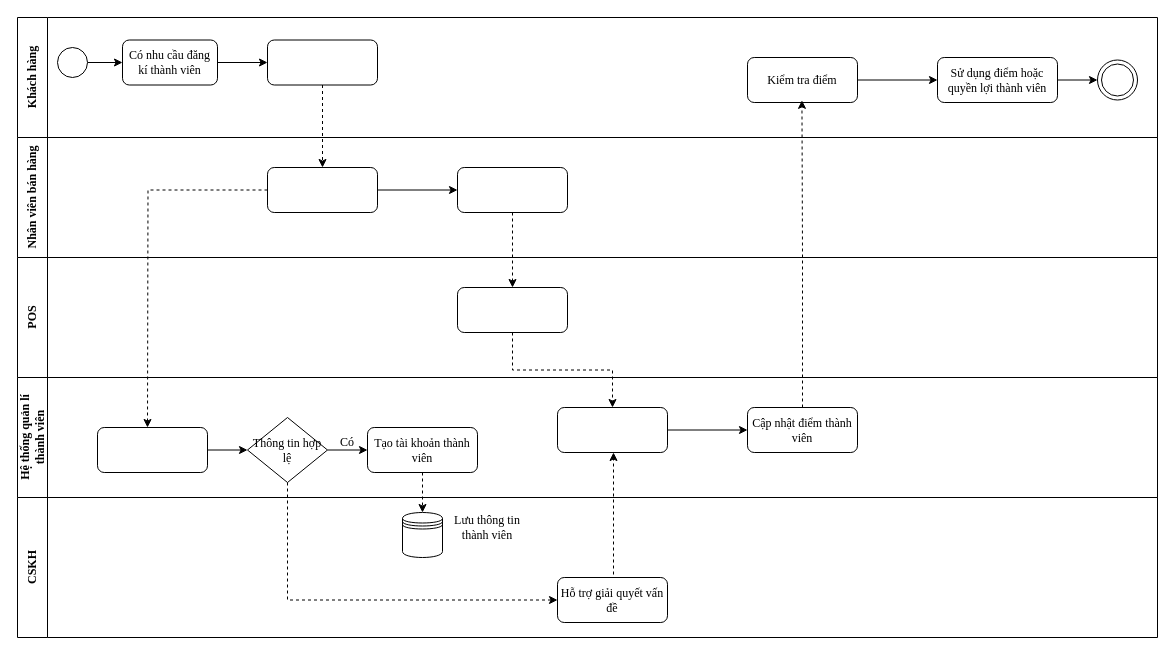
Some shapes in this 1175 by 655 pixel diagram are drawn without their labels. The shapes that lost their labels are listed below. From the top down, each one's centre as x and y in pixels, then its label:
At [322,62]: "Cung cấp thông tin cần thiết".
At [322,189]: "Tiếp nhận thông tin đăng kí".
At [512,189]: "Xác nhận thông tin, hướng dẫn".
At [512,309]: "Ghi nhận giao dịch".
At [152,449]: "Kiểm tra thông tin đăng kí".
At [612,429]: "Tính điểm tích luỹ".
